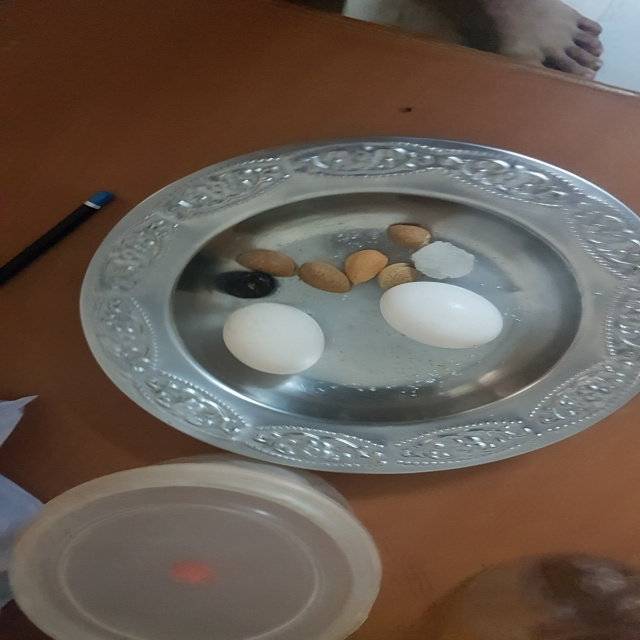eggs: (380, 279, 506, 349), (223, 300, 328, 377)
